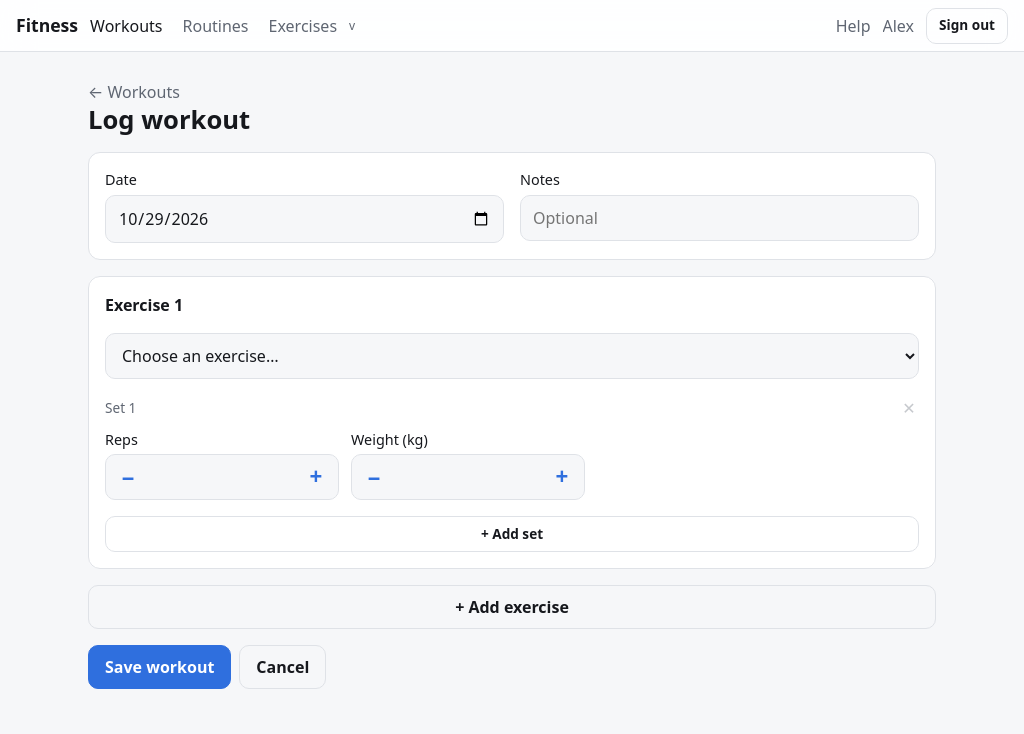
Test case: logging a workout › shows the API error when the workout is rejected
The image size is (1024, 734).
Select "Barbell Back Squat" in the dropdown named "Exercise" at coordinates (512, 356), box [105,333,919,379]
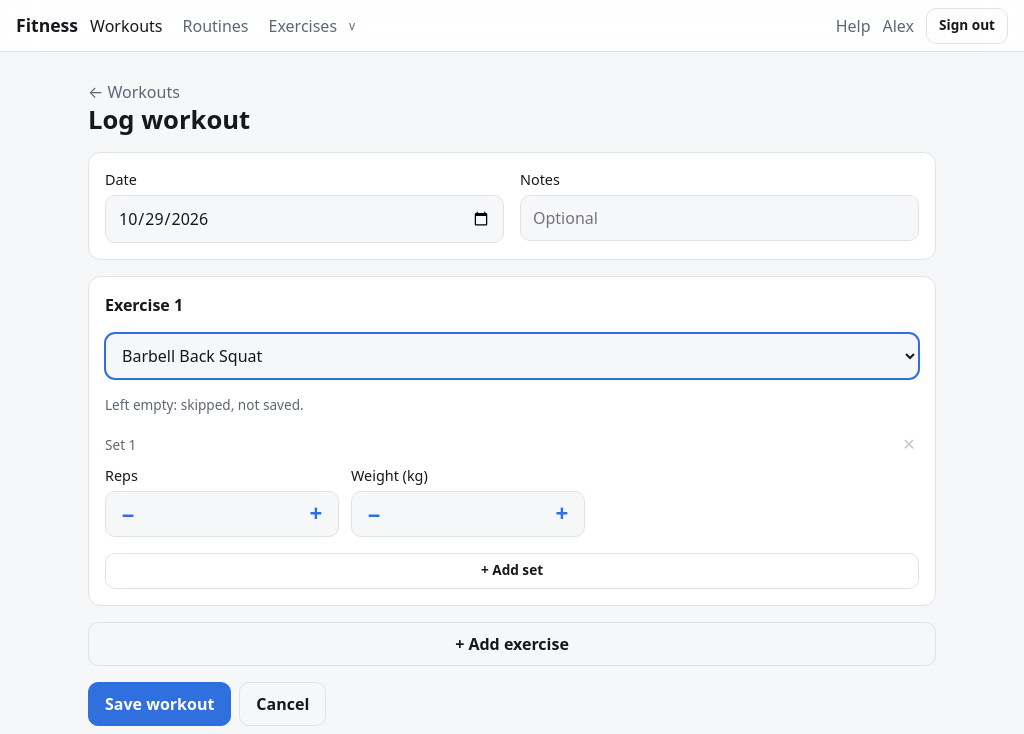
Type "5" into the field labelled "Reps" at coordinates (222, 514), box [150,492,294,536]
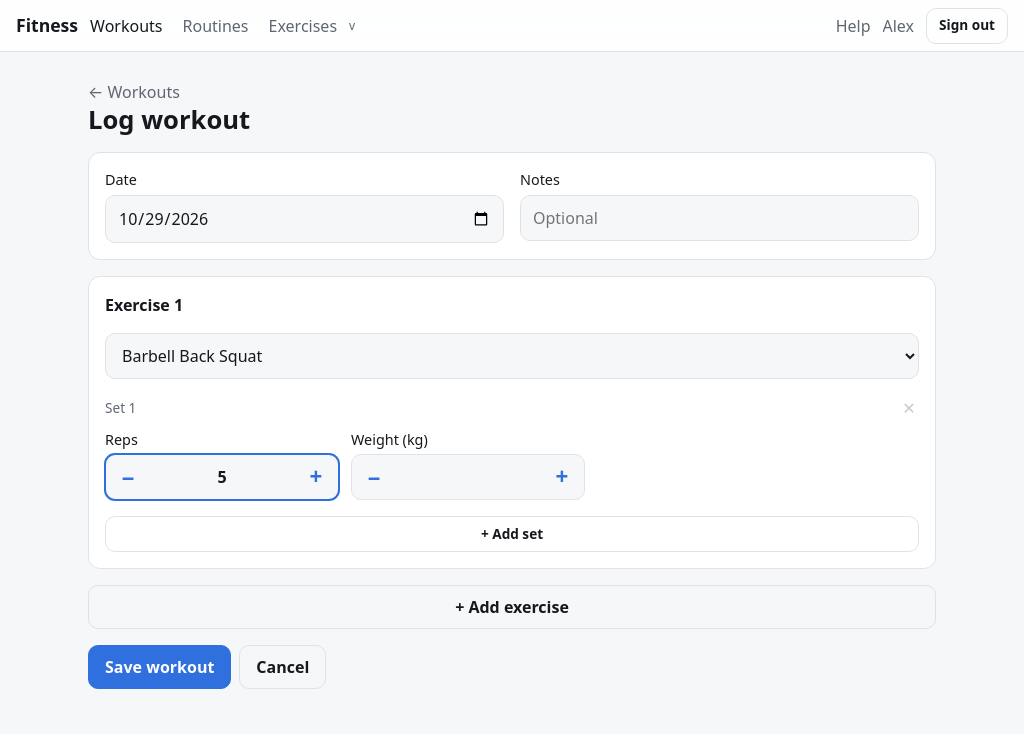
Type "100" into the field labelled "Weight (kg)" at coordinates (468, 477), box [396,455,540,499]
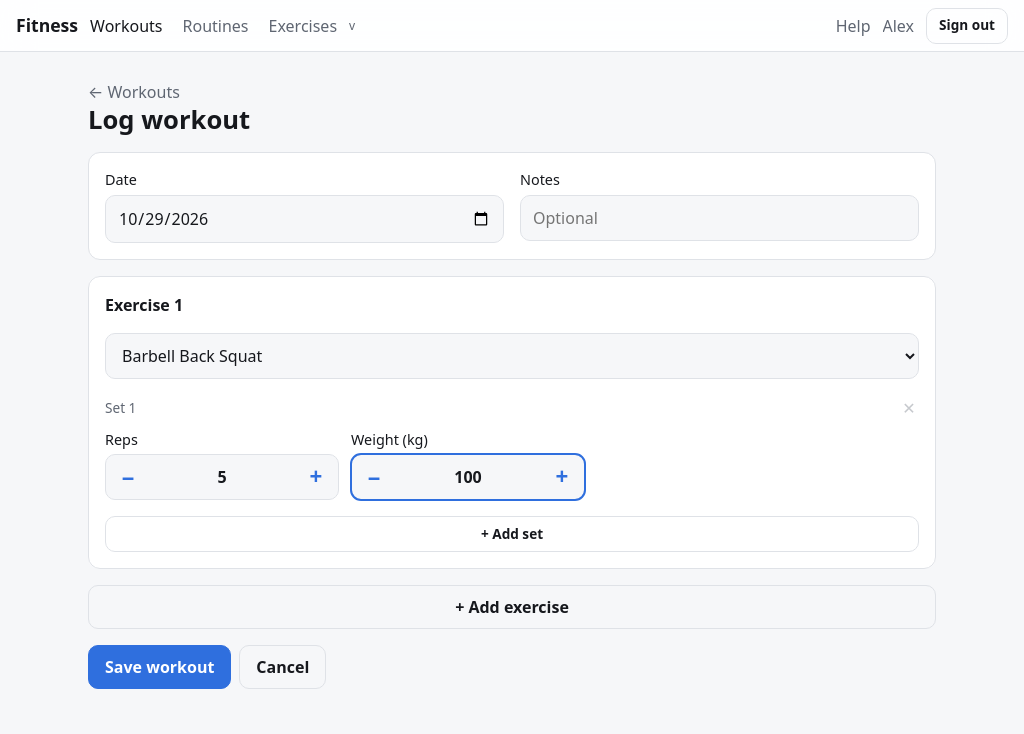
Click the button "Save workout" at coordinates (160, 667), box [88,645,231,689]
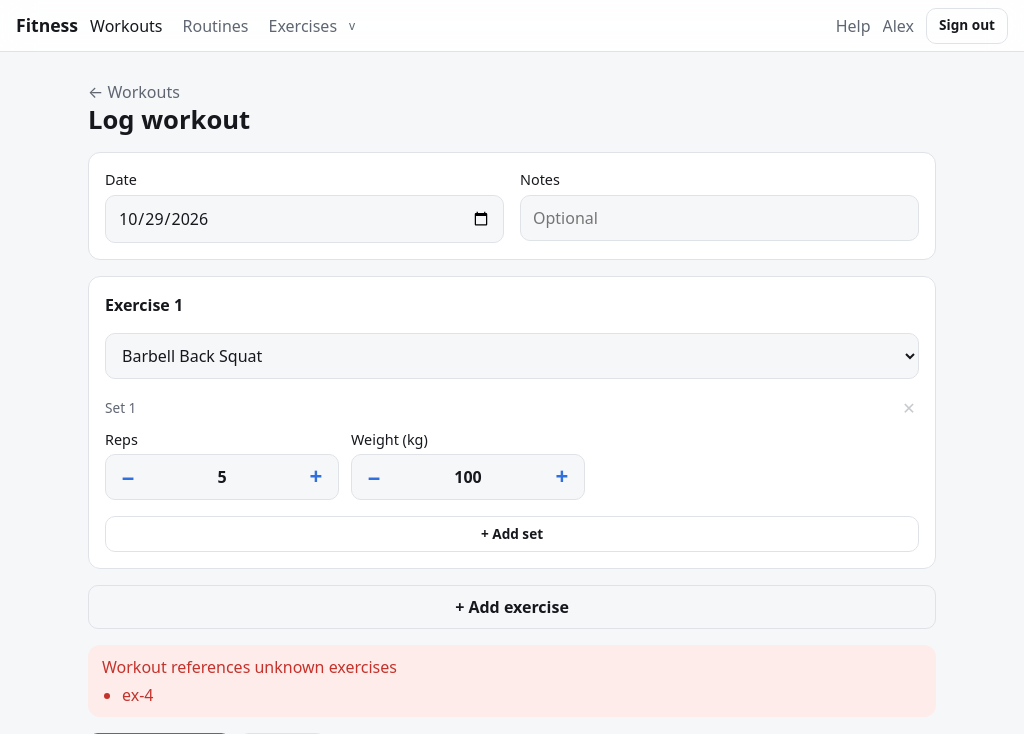
Result: the message shows "Workout references unknown exercises" at [102,656,397,678]
